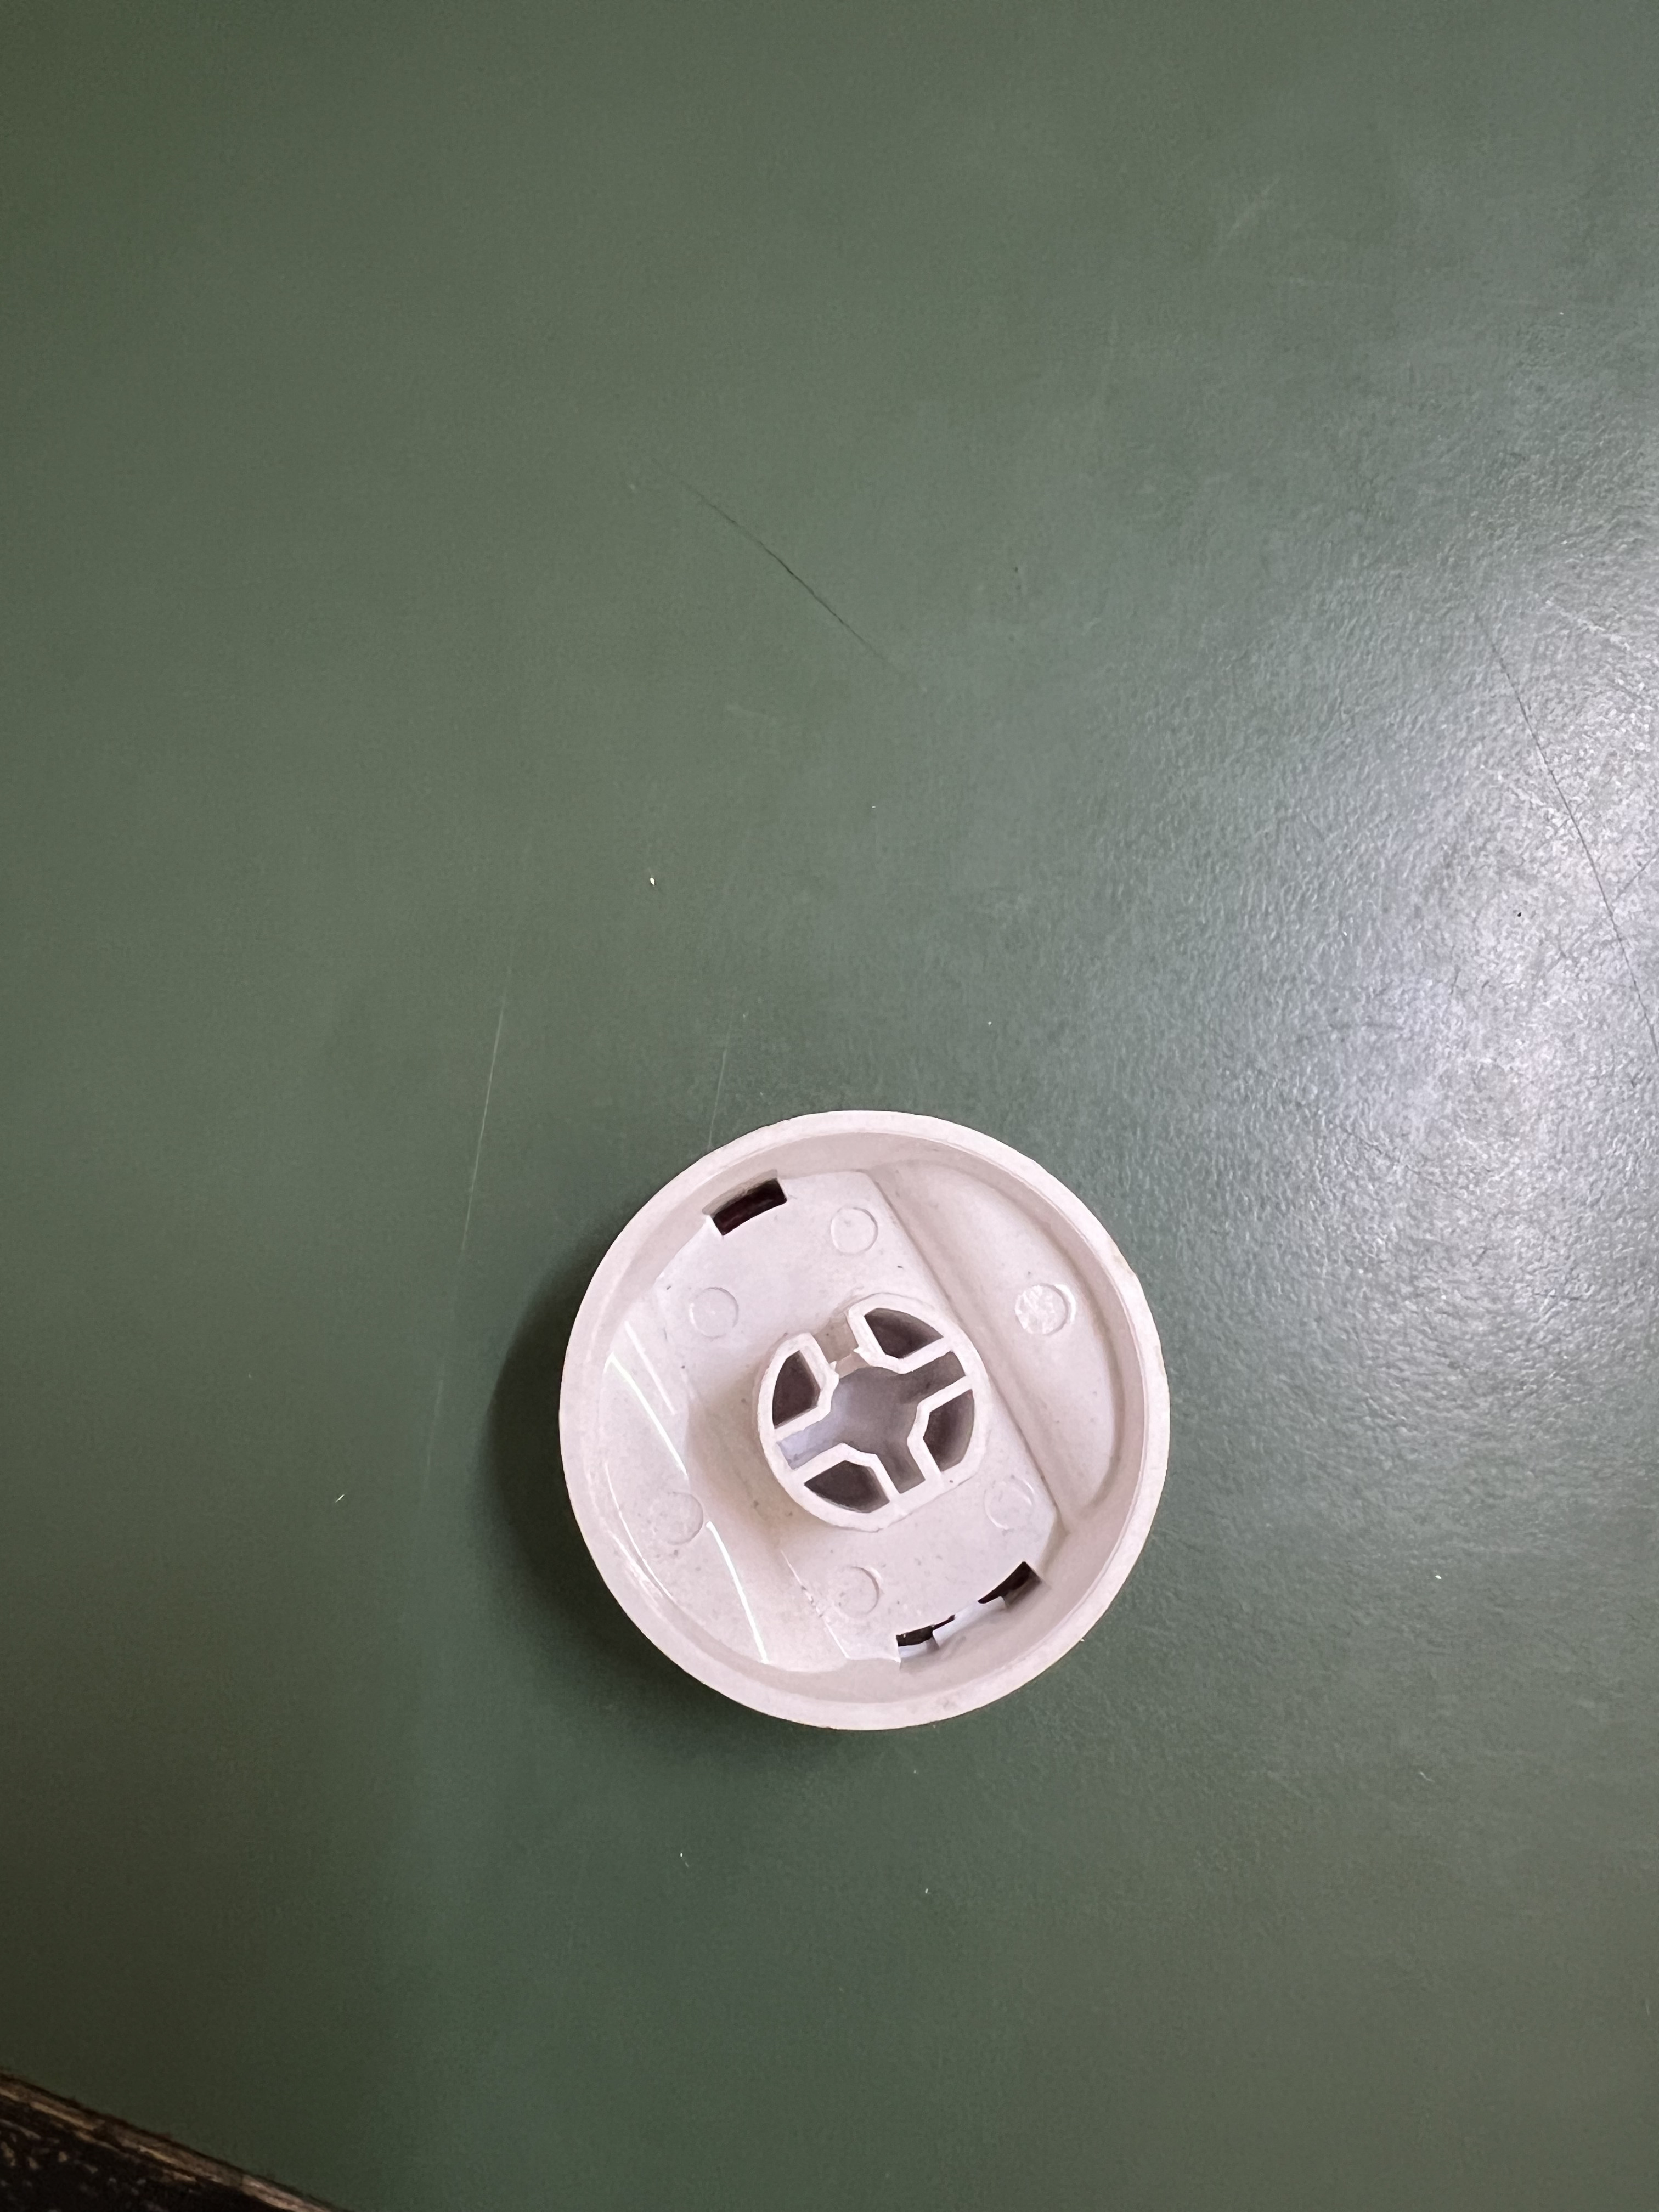regulator: (556, 1120, 1190, 1719)
